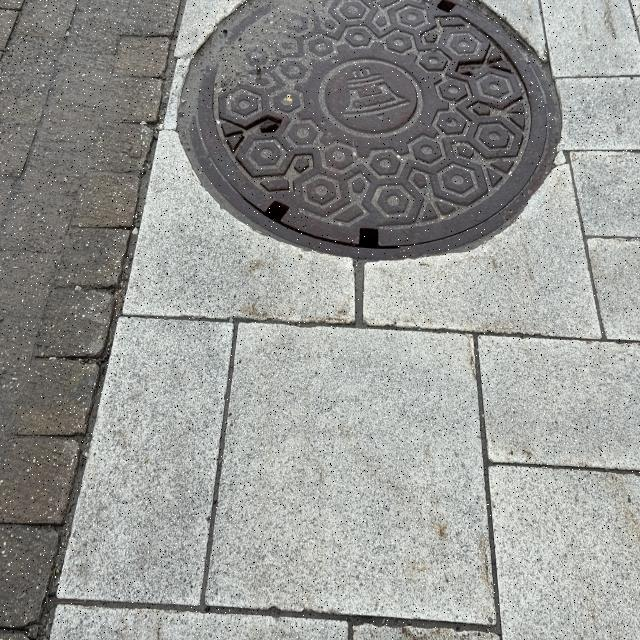Manhole: (178, 1, 566, 271)
